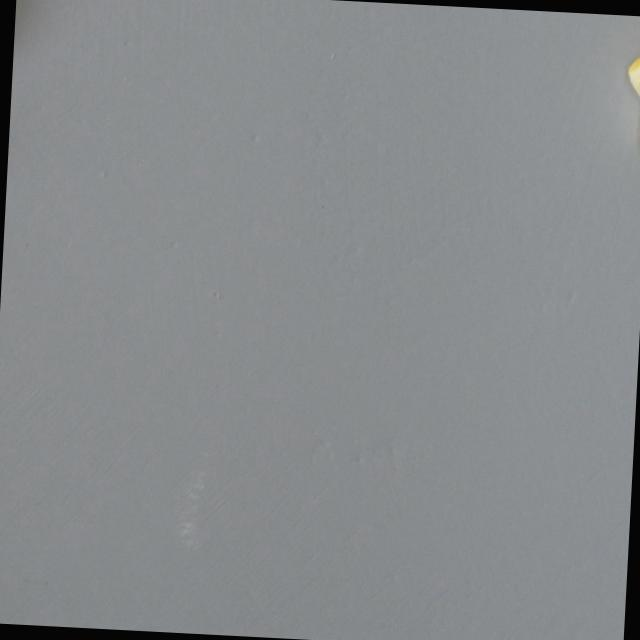no_canjicado: (622, 43, 640, 156)
